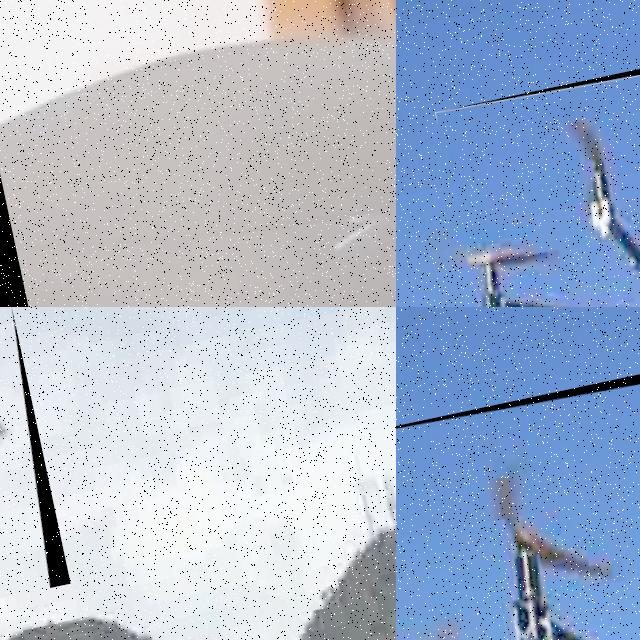drone: (0, 0, 396, 307), (396, 312, 640, 640), (434, 36, 640, 307), (0, 307, 70, 615)
